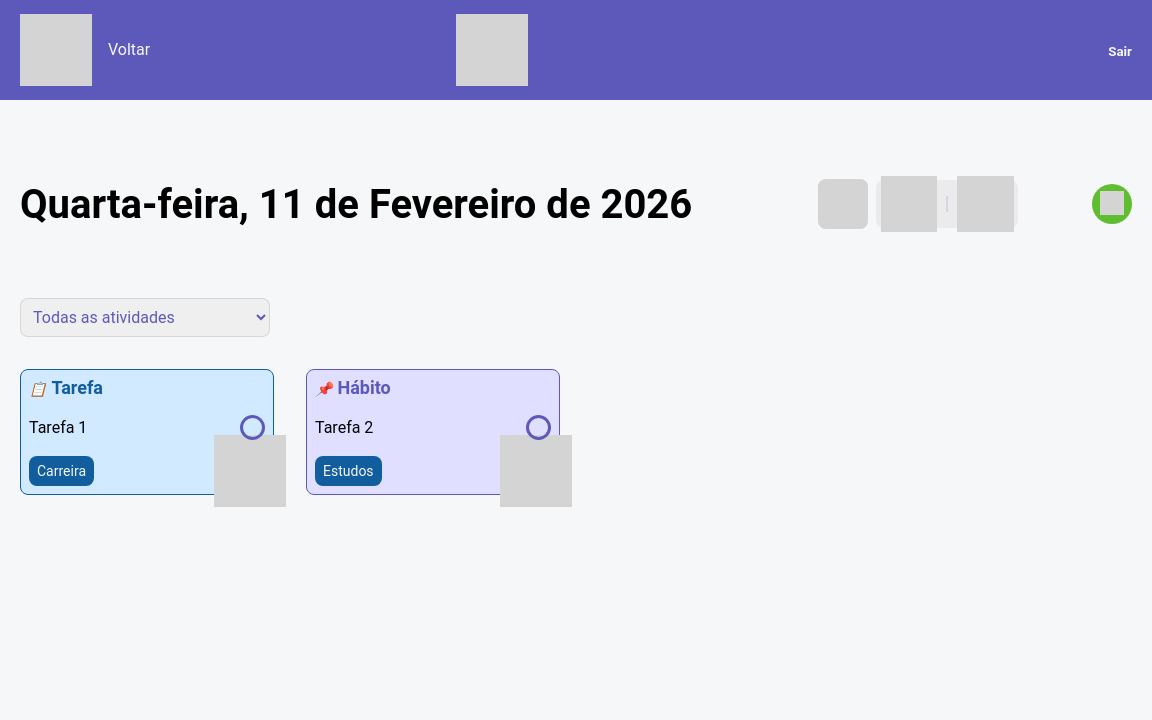
it: <DashboardContainer/> › should filter and display only incomplete tasks when "Hábitos" is selected
Select "Hábitos" in the dropdown at (145, 318), box [20,298,270,337]
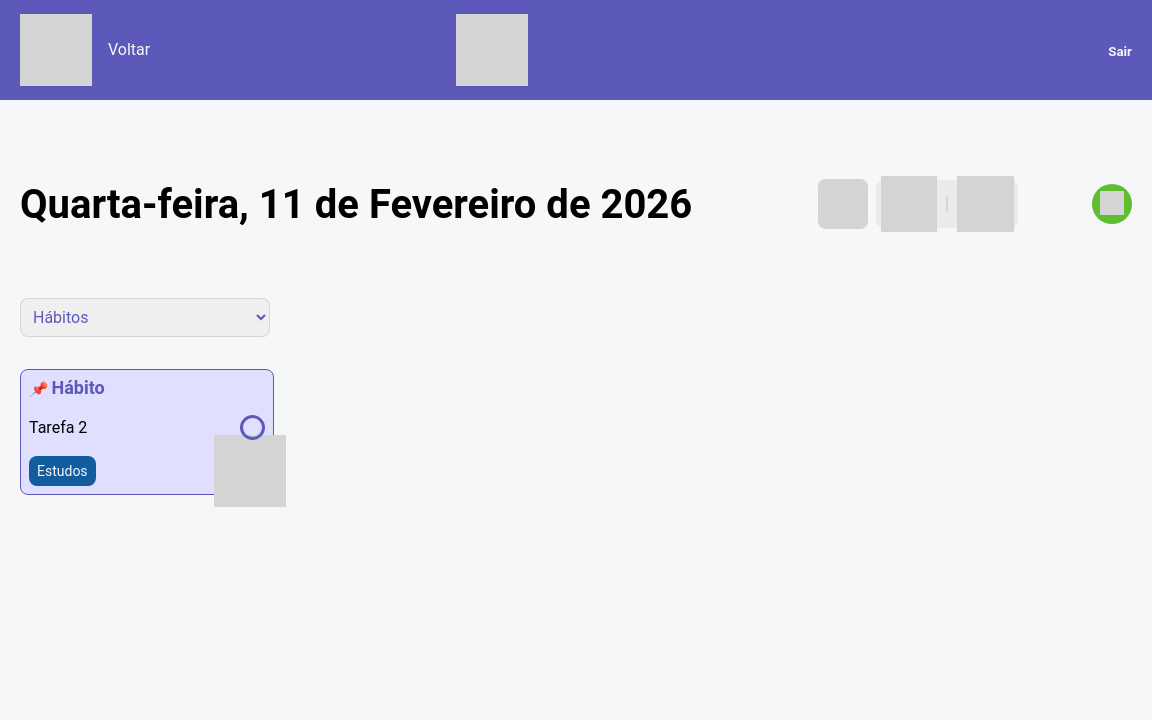
Expected: the text "Tarefa 2" is shown, [29,418,87,437]
Result: the text "Tarefa 1" is gone
